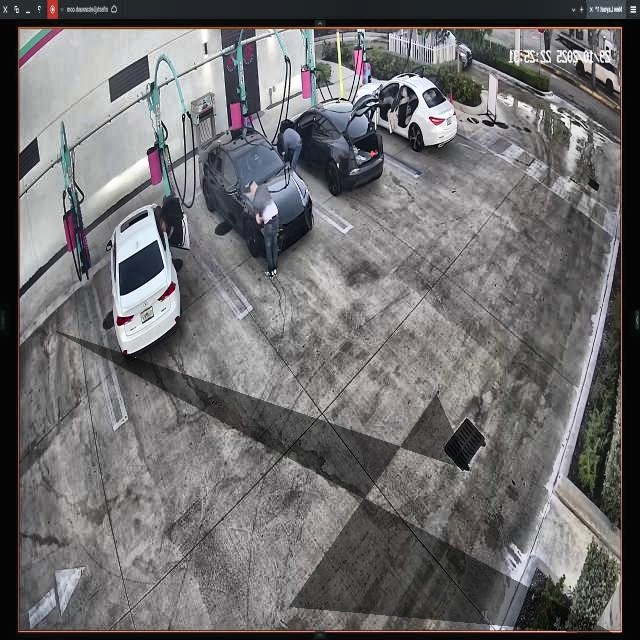Car: (199, 132, 312, 251), (106, 198, 187, 361), (278, 94, 383, 203), (351, 73, 456, 162)
